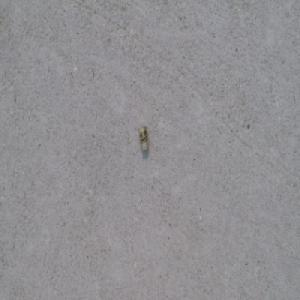BoltNutSet: (138, 124, 149, 152)
